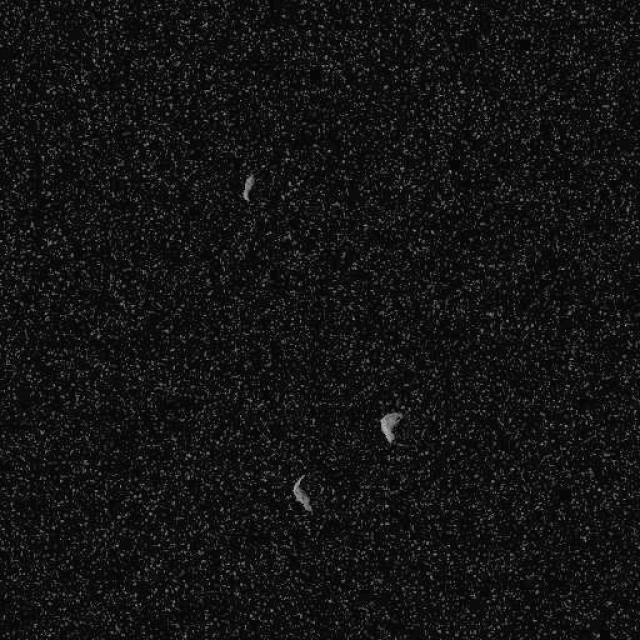D2: (378, 410, 402, 445), (292, 472, 312, 514), (241, 172, 255, 202)
